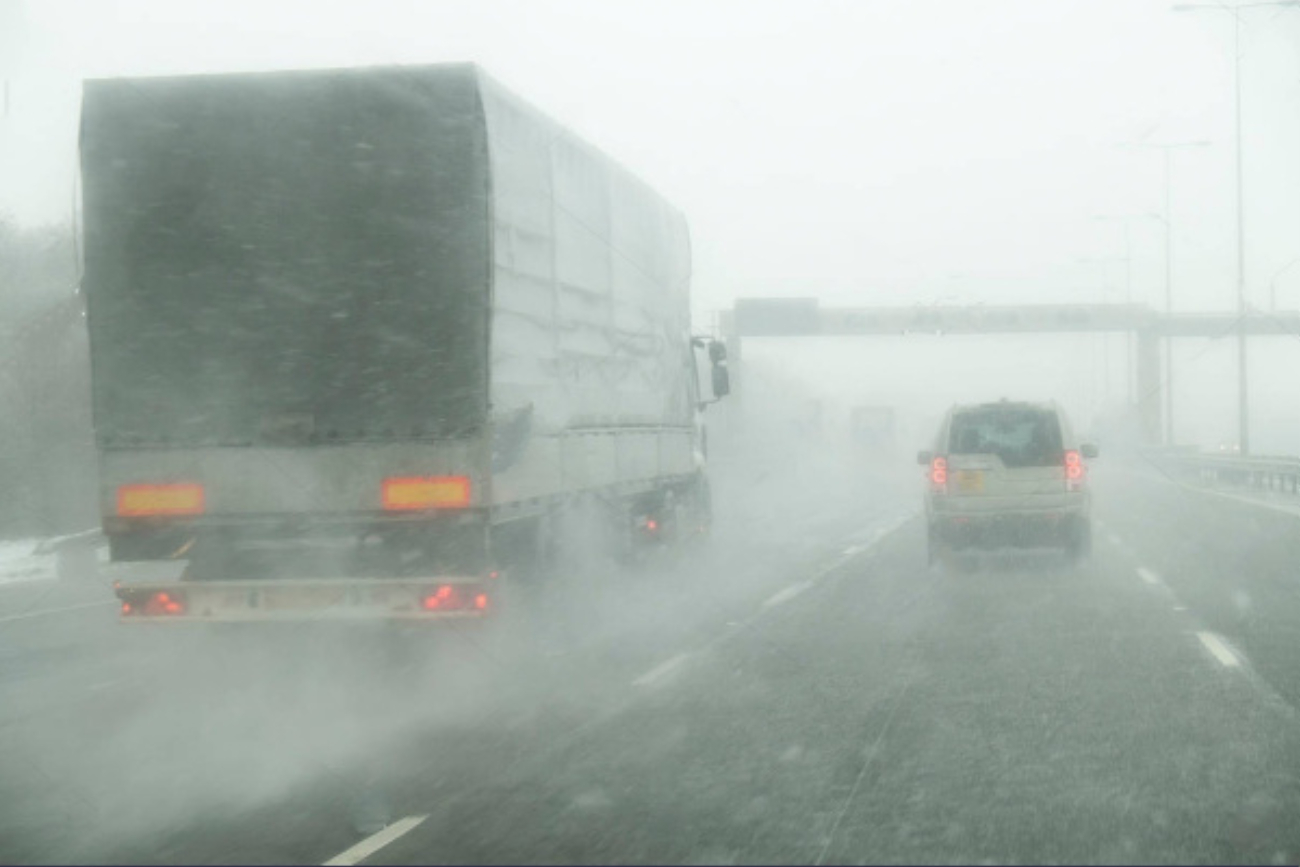car: (922, 403, 1092, 561)
truck: (72, 63, 728, 661), (846, 403, 897, 465)
